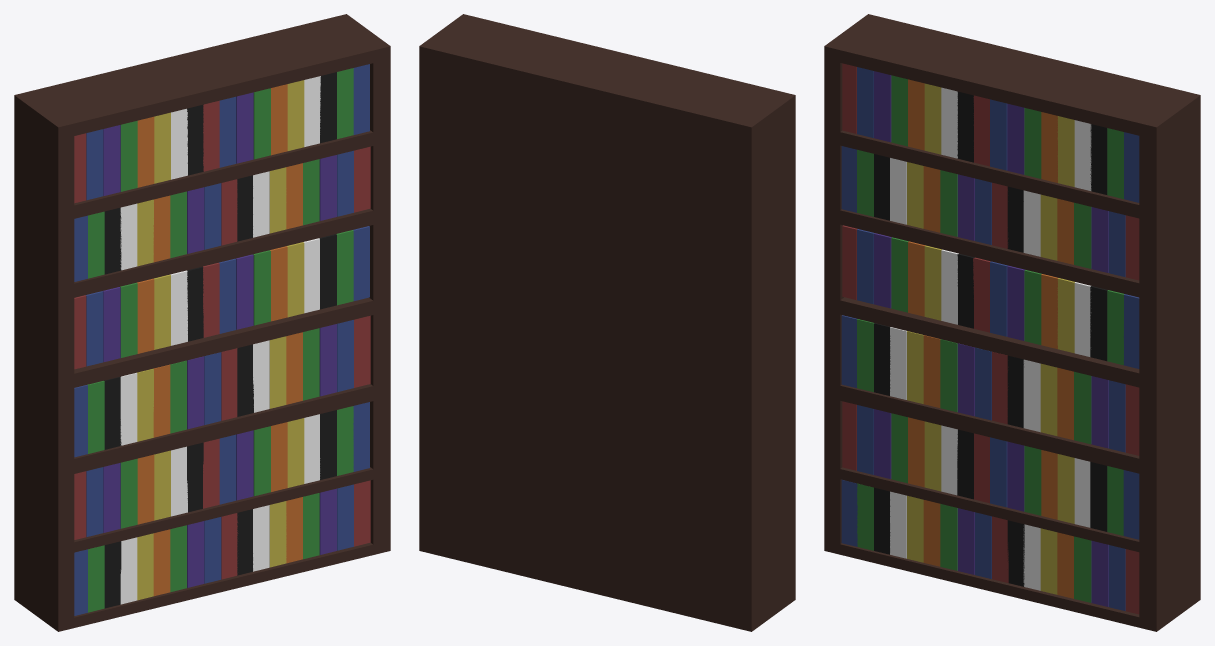
Rendered from rak buku.fbx.
3 renders of one model, left to right at view 1: azimuth 30°, elevation 25°; view 2: azimuth 150°, elevation 25°; view 3: azimuth 330°, elevation 25°, orthographic.
Visible parts, largest first — view 1: Cube, Cube.052, Cube.050, Cube.041, Cube.040, Cube.051, Cube.042, Cube.053, Cube.044, Cube.095, Cube.094, Cube.099 (+97 smaller); view 2: Cube; view 3: Cube, Cube.046, Cube.049, Cube.041, Cube.040, Cube.052, Cube.042, Cube.044, Cube.096, Cube.095, Cube.097, Cube.102 (+97 smaller).
Part boxes in pixels (x1=…): Cube: x1=14, y1=14, x2=390, y2=631; Cube.052: x1=102, y1=287, x2=120, y2=361; Cube.050: x1=137, y1=278, x2=154, y2=353; Cube.041: x1=235, y1=254, x2=253, y2=329; Cube.040: x1=219, y1=258, x2=236, y2=333; Cube.051: x1=120, y1=282, x2=137, y2=357; Cube.042: x1=253, y1=250, x2=270, y2=325; Cube.053: x1=86, y1=291, x2=103, y2=366; Cube.044: x1=287, y1=242, x2=304, y2=317; Cube.095: x1=187, y1=356, x2=204, y2=429; Cube.094: x1=204, y1=352, x2=221, y2=424; Cube.099: x1=120, y1=372, x2=137, y2=445; Cube: x1=419, y1=14, x2=795, y2=631; Cube: x1=824, y1=14, x2=1200, y2=631; Cube.046: x1=1090, y1=286, x2=1107, y2=361; Cube.049: x1=924, y1=245, x2=941, y2=320; Cube.041: x1=1007, y1=265, x2=1024, y2=340; Cube.040: x1=990, y1=261, x2=1007, y2=336; Cube.052: x1=874, y1=233, x2=891, y2=308; Cube.042: x1=1024, y1=270, x2=1041, y2=344; Cube.044: x1=1057, y1=278, x2=1074, y2=353; Cube.096: x1=940, y1=339, x2=957, y2=411; Cube.095: x1=957, y1=343, x2=974, y2=416; Cube.097: x1=923, y1=335, x2=940, y2=407; Cube.102: x1=1023, y1=359, x2=1040, y2=432.
Size of the model in its own units: 192 by 279 by 44.2.
Materials: 127 (127 with a texture image).
